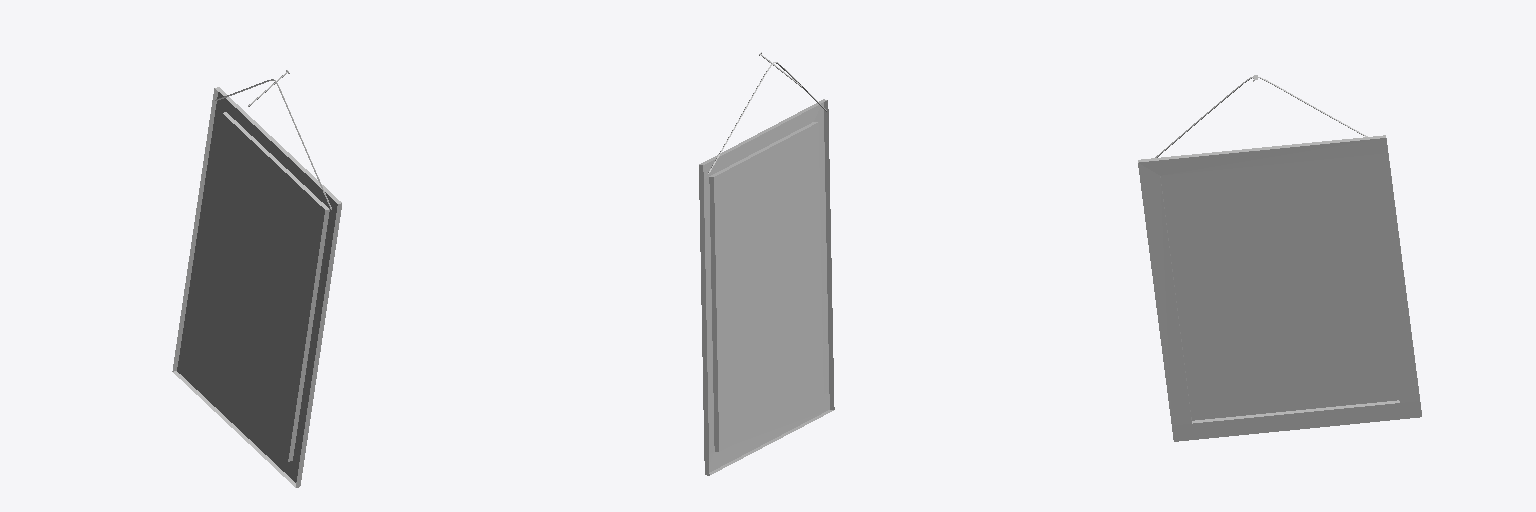
The model's file is obraz nad lozkiem3.obj.
3 views of the same model, side by side, from view 1: azimuth 30°, elevation 25°; view 2: azimuth 150°, elevation 25°; view 3: azimuth 270°, elevation 25° (orthographic).
Visible parts, largest first — view 1: Plane.004; view 2: Plane.004; view 3: Plane.004.
Boxes of the visible parts, <box> form: Plane.004: <box>172,87,341,487</box>; Plane.004: <box>699,99,834,475</box>; Plane.004: <box>1138,135,1421,441</box>.
Size of the model in its own units: 0.0877 by 0.7546 by 0.511.